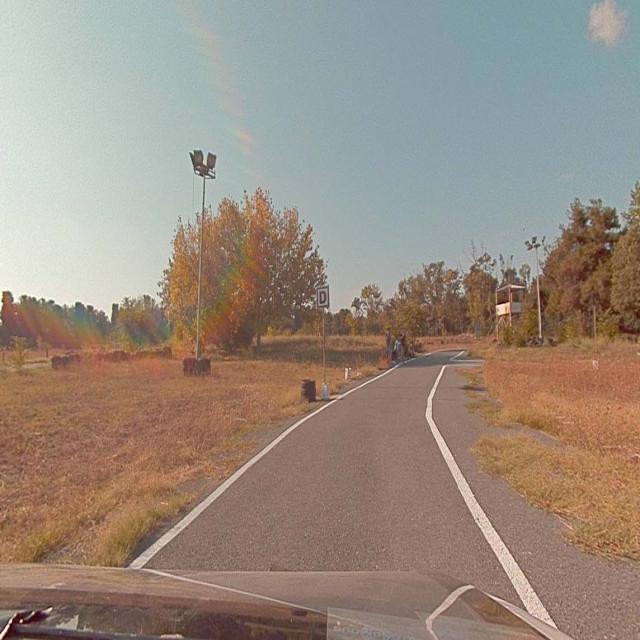durak: (316, 288, 329, 308)
